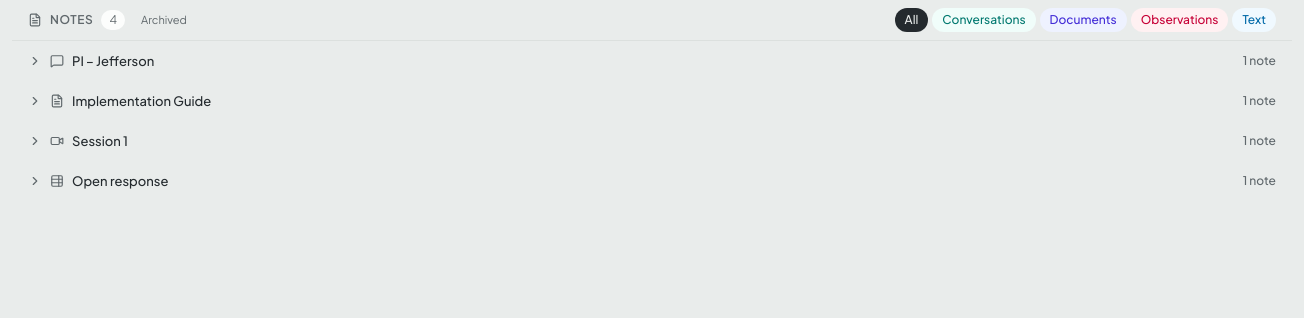
Test: renders the documents group with its notes and count
Click the button "Implementation Guide 1 note" at (142, 101), box left=12, top=81, right=1292, bottom=121
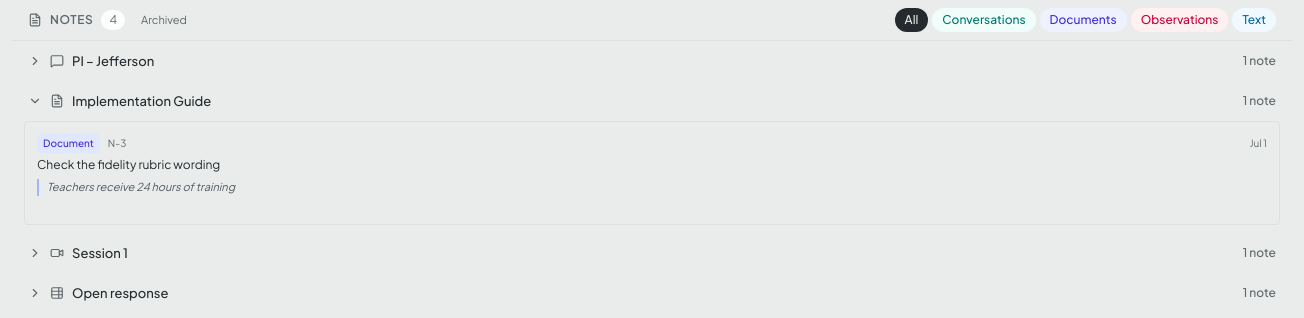
expect the text "Check the fidelity rubric wording" is shown: met, box left=37, top=157, right=220, bottom=172
